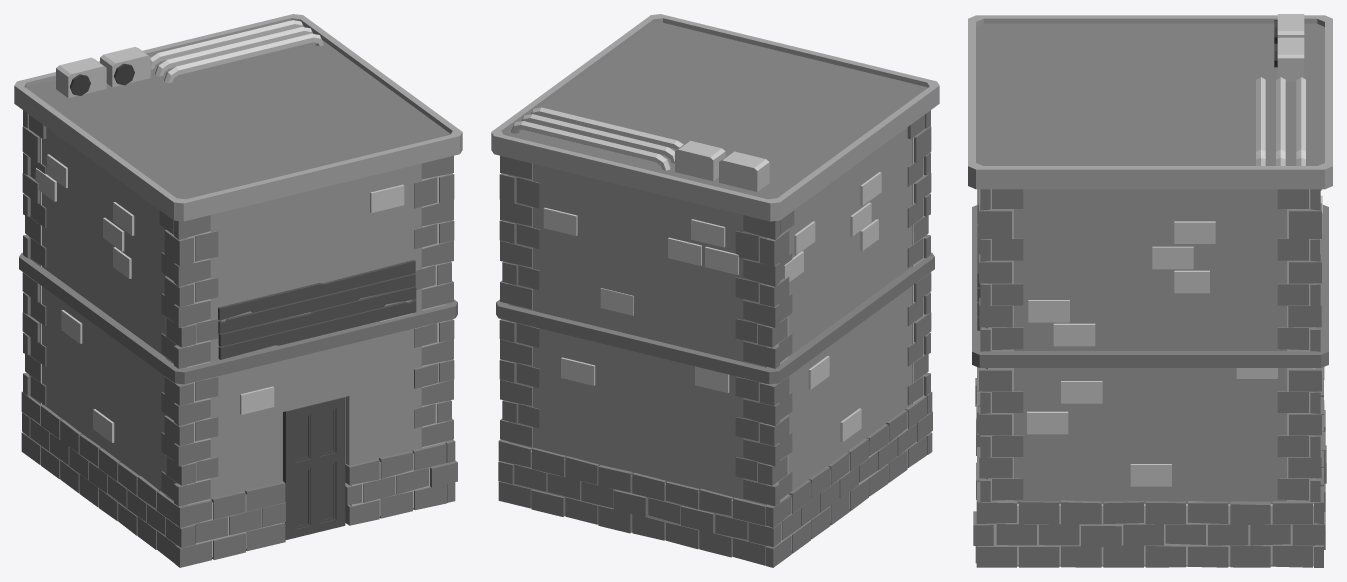
Rendered from qtb_2story_sign.fbx.
3 renders of one model, left to right at view 1: azimuth 30°, elevation 25°; view 2: azimuth 150°, elevation 25°; view 3: azimuth 270°, elevation 25°, orthographic. The views are drawn at different scales.
Parts seen in each view (by area): view 1: qtb_2story_sign_LOD0; view 2: qtb_2story_sign_LOD0; view 3: qtb_2story_sign_LOD0.
Boxes of the visible parts, left/top/right/bottom form: qtb_2story_sign_LOD0: left=14, top=14, right=462, bottom=567; qtb_2story_sign_LOD0: left=491, top=14, right=939, bottom=567; qtb_2story_sign_LOD0: left=968, top=14, right=1332, bottom=567.
Size of what is drawn, in the model's own units: 5.82 by 7.44 by 5.82.
1 material, 1 textured.
